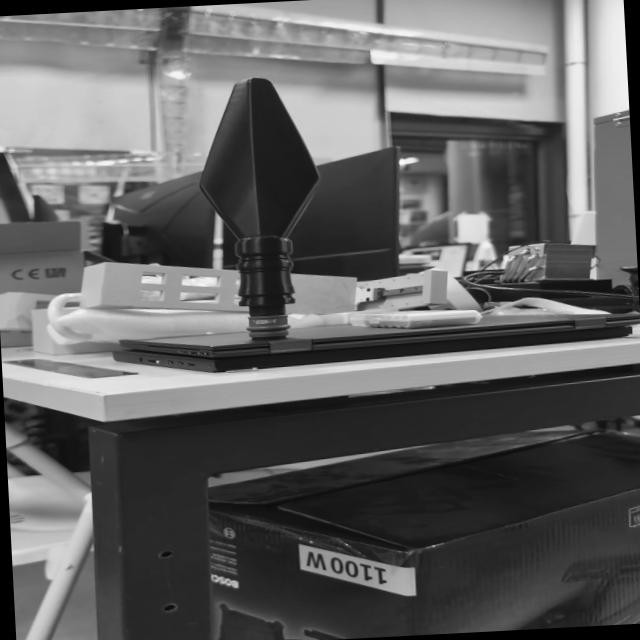base: (238, 311, 302, 345)
